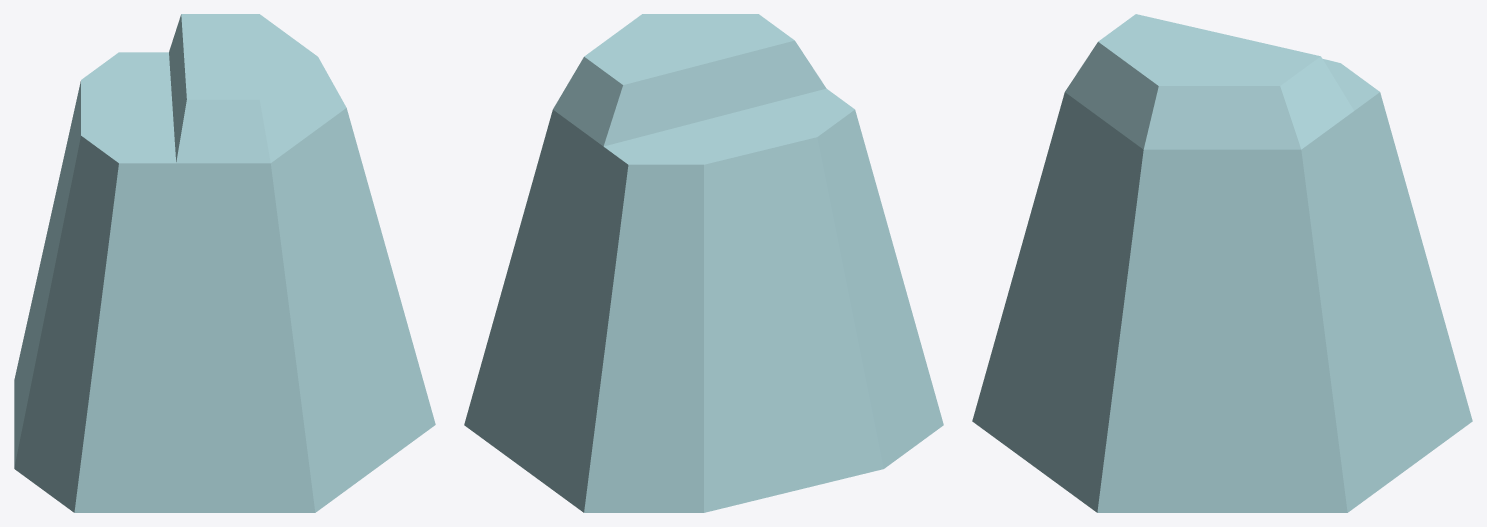
File: stone_tallE.glb
3 renders of one model, left to right at view 1: azimuth 30°, elevation 25°; view 2: azimuth 150°, elevation 25°; view 3: azimuth 270°, elevation 25°, orthographic. The views are drawn at different scales.
Visible parts, largest first — view 1: stone_tallE; view 2: stone_tallE; view 3: stone_tallE.
Part boxes in pixels (x1,y1,x2,y2): stone_tallE: (14, 14, 435, 512); stone_tallE: (464, 14, 943, 512); stone_tallE: (972, 14, 1472, 512).
Bounding box in the file's own units: 0.4562 × 0.4438 × 0.5268.
